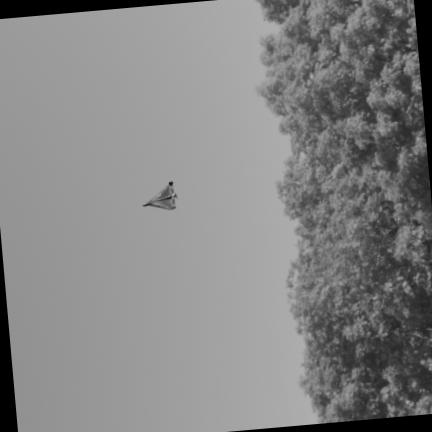Shahed: (143, 181, 176, 209)
